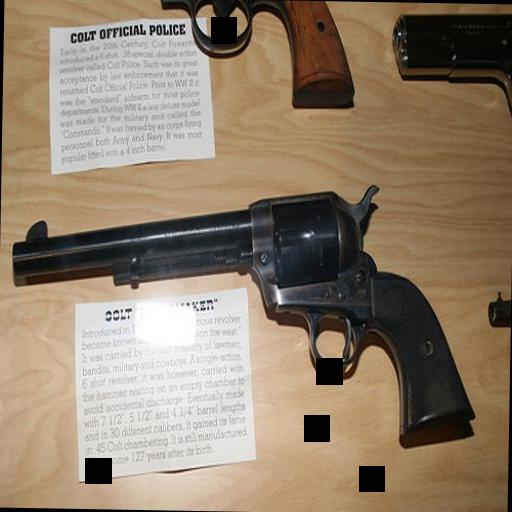Handgun: (7, 176, 476, 436), (154, 0, 353, 107), (385, 11, 512, 126)
